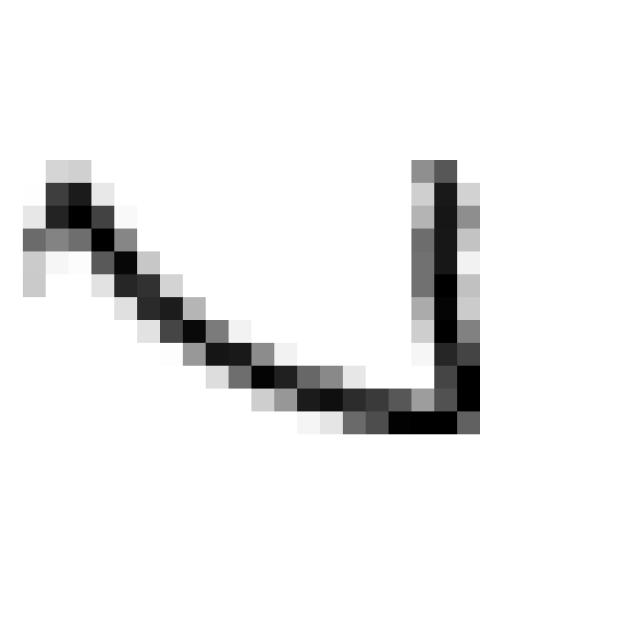7 -seven-: (7, 144, 500, 450)
